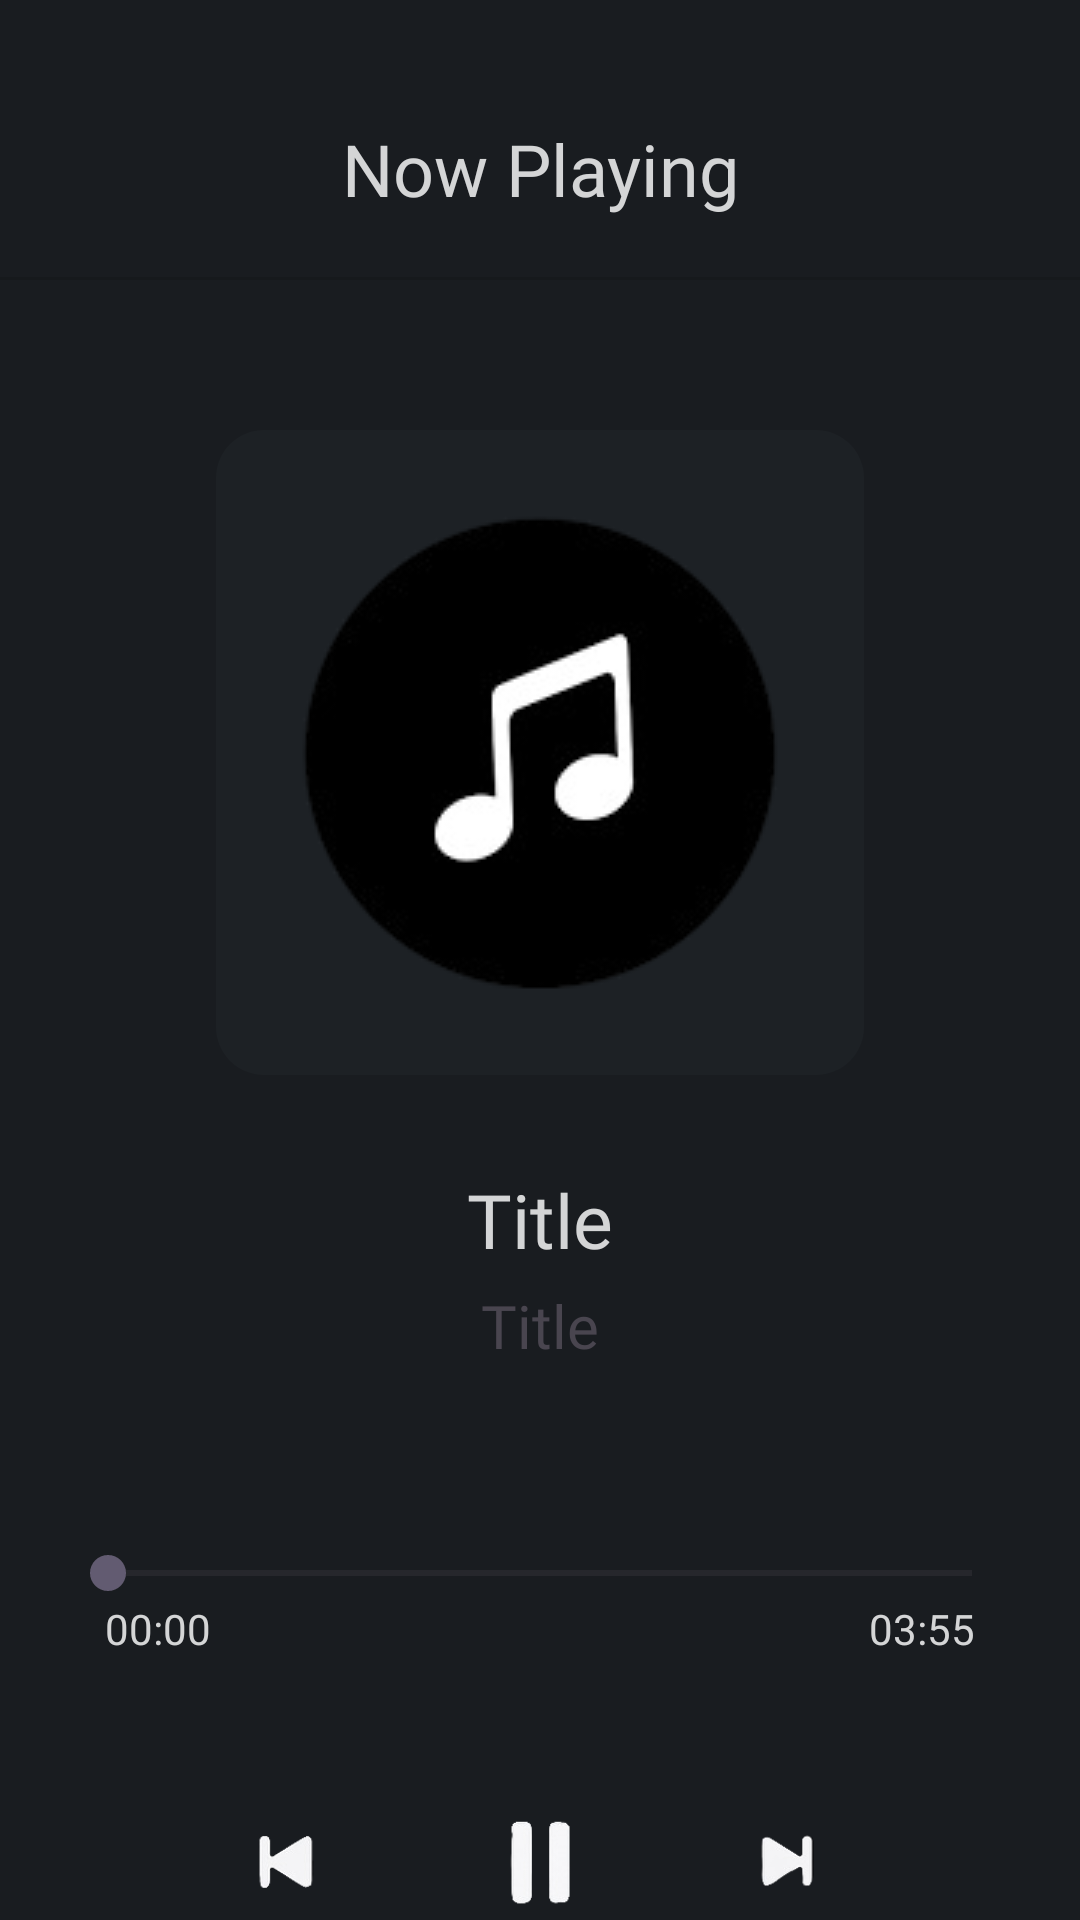

Named icons in this screenshot (1080 × 1920) and their bounding boxes, [x1=x1, y1=y1, x2=x2, y2=y2]:
next: [x1=761, y1=1835, x2=813, y2=1886]
pause: [x1=511, y1=1821, x2=570, y2=1904]
previous: [x1=259, y1=1836, x2=313, y2=1888]
